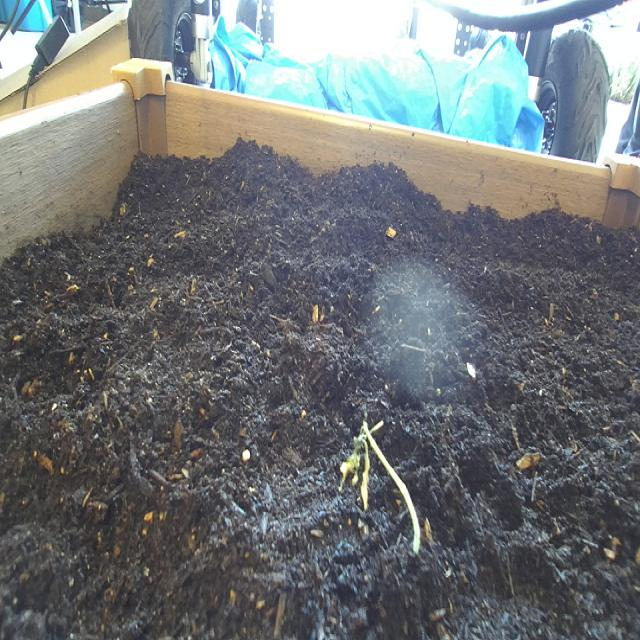Unhealthy: (333, 405, 428, 566)
